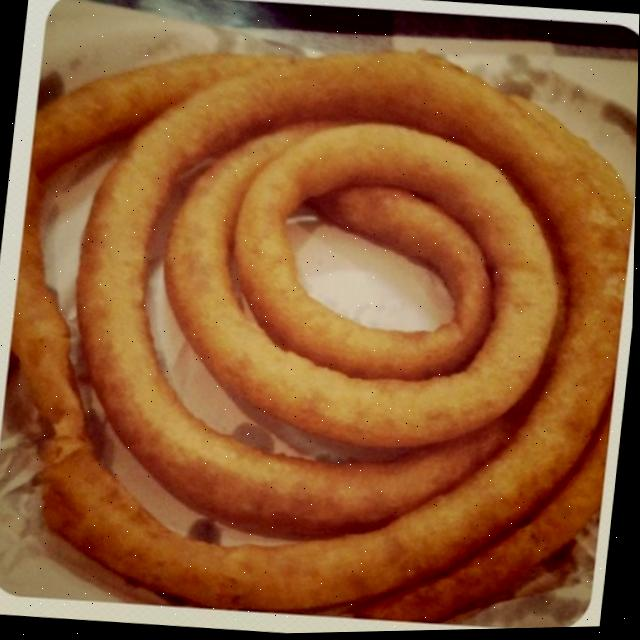炸货点心: (4, 7, 640, 636)
